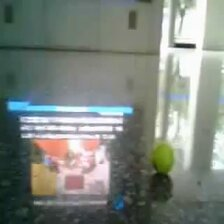tennis: (152, 145, 174, 172)
